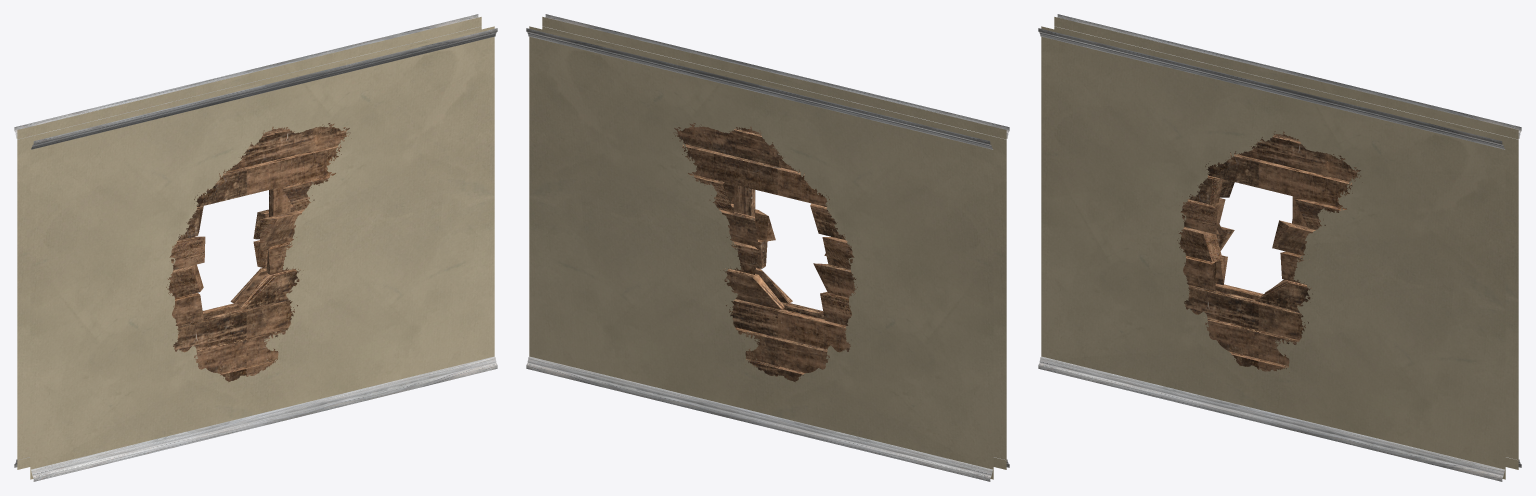
The model's file is WallBroken.fbx.
The picture shows the model from 3 angles, left to right: view 1: azimuth 30°, elevation 25°; view 2: azimuth 150°, elevation 25°; view 3: azimuth 330°, elevation 25°; orthographic projection.
Visible parts, largest first — view 1: Cube.008, Cube.180; view 2: Cube.008, Cube.180; view 3: Cube.008, Cube.180.
Boxes of the visible parts, x1,y1,x2,y2 form: Cube.008: (14,14,497,481); Cube.180: (166,123,351,382); Cube.008: (526,14,1009,481); Cube.180: (672,123,857,382); Cube.008: (1038,14,1521,481); Cube.180: (1177,131,1362,372).
Size of the model in its own units: 200 by 140 by 14.32.
